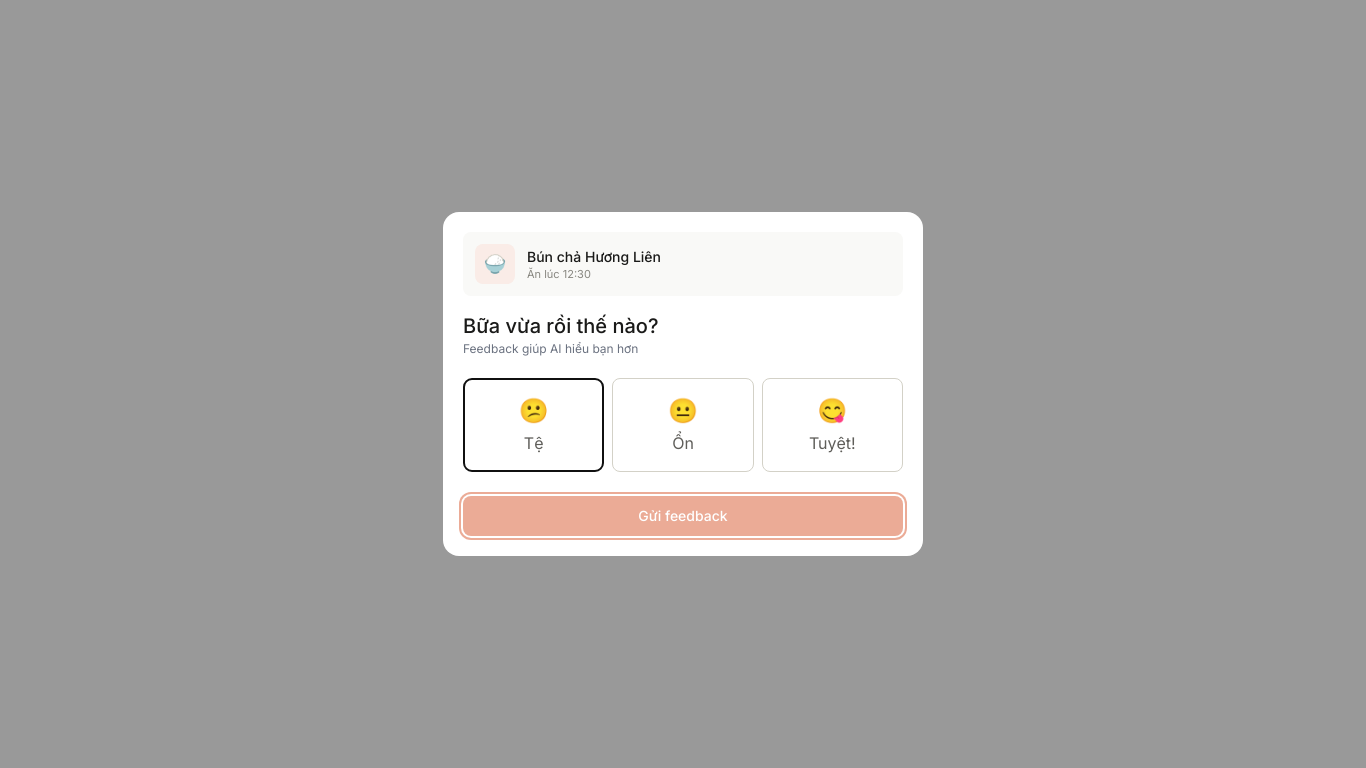
Test: FeedbackModal › shows regret and tags after emoji selection
Expected: the text "Bạn có hối hận không?" is not shown
Click the text "Tuyệt!".
click(832, 443)  # box [809,431,856,455]
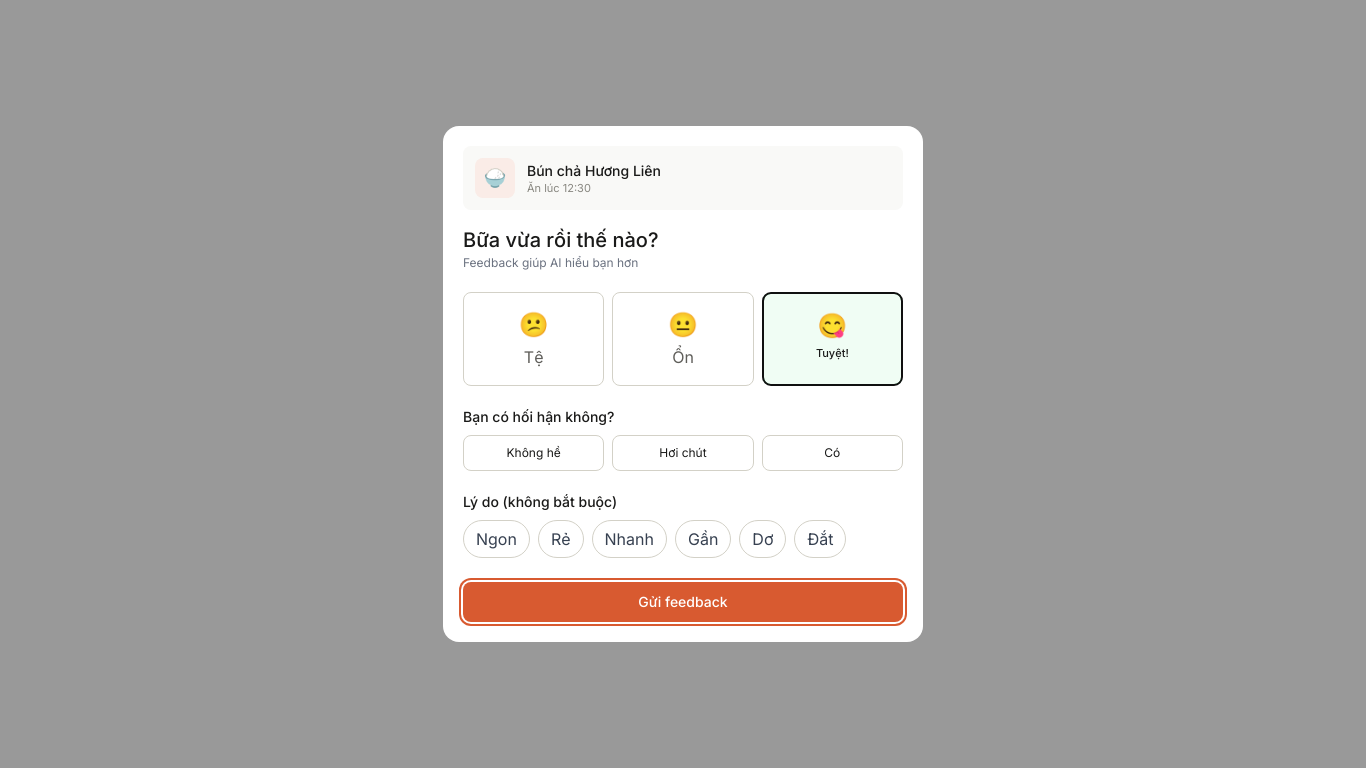
Result: the heading "Bạn có hối hận không?" is shown at [463,408,614,425]
Result: the heading "Lý do (không bắt buộc)" is shown at [463,493,617,510]
